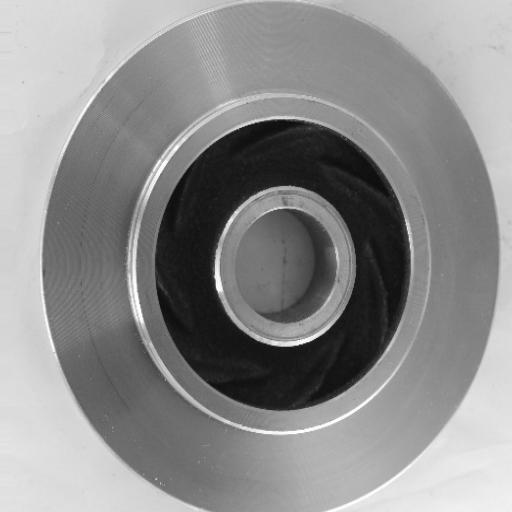polished_casting: (38, 0, 502, 512)
